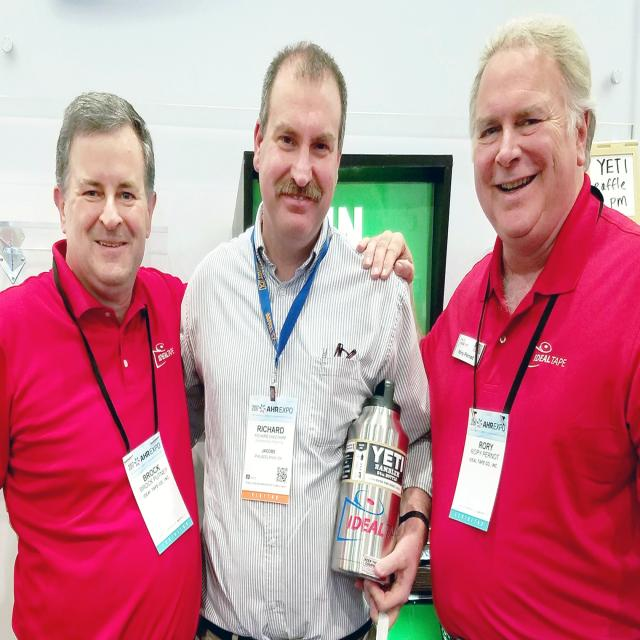body: (0, 82, 430, 640), (357, 12, 639, 639), (177, 37, 435, 639)
